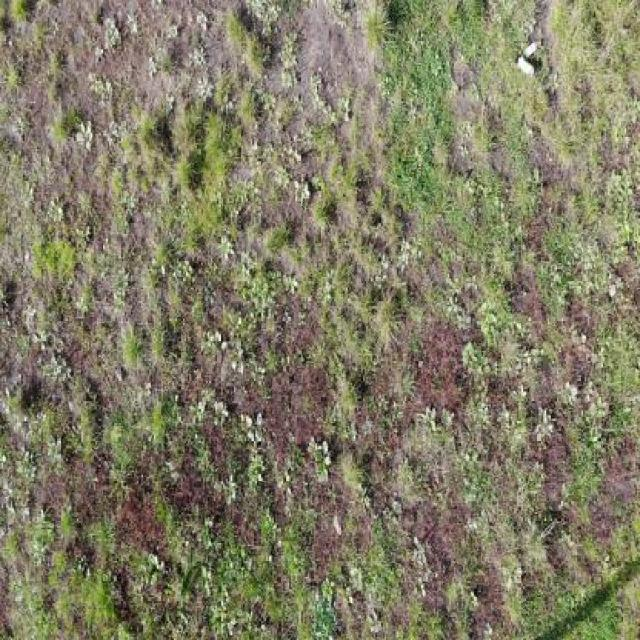Garbage: (521, 39, 540, 66), (516, 55, 535, 80)
